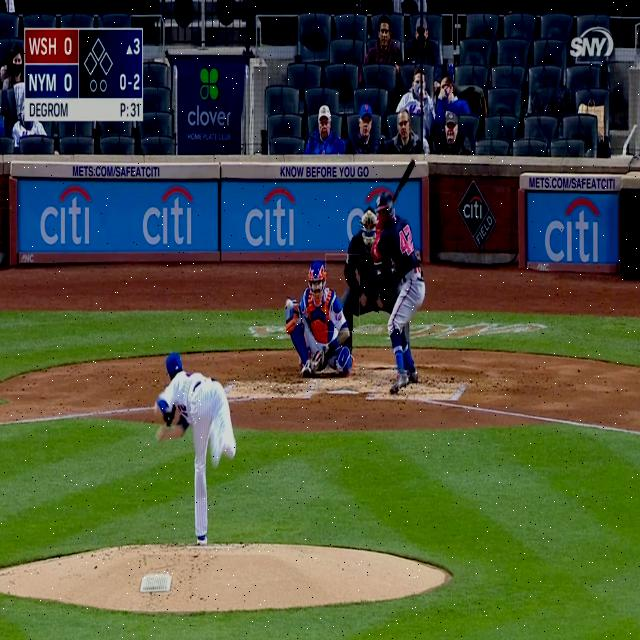baseball: (286, 299, 293, 309)
